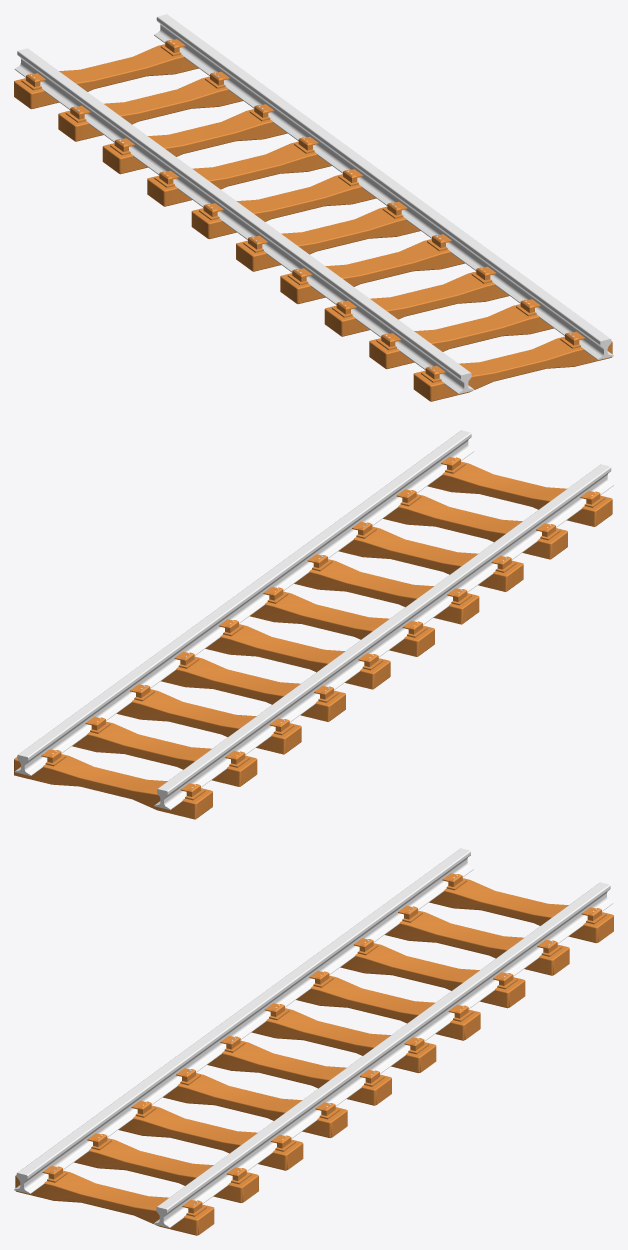
The model's file is 直行铁轨.fbx.
The picture shows the model from 3 angles, top to bottom: view 1: azimuth 30°, elevation 25°; view 2: azimuth 150°, elevation 25°; view 3: azimuth 330°, elevation 25°; orthographic projection.
Visible parts, largest first — view 1: 立方体, 立方体_1_0, 立方体_1_2, 立方体_1_5, 立方体_1_7, 立方体_1_8, 立方体_1_6, 立方体_1_3, 立方体_1_1, 立方体_1_4, 立方体_1_9; view 2: 立方体, 立方体_1_9, 立方体_1_2, 立方体_1_8, 立方体_1_3, 立方体_1_0, 立方体_1_7, 立方体_1_5, 立方体_1_4, 立方体_1_1, 立方体_1_6; view 3: 立方体, 立方体_1_0, 立方体_1_2, 立方体_1_5, 立方体_1_8, 立方体_1_6, 立方体_1_7, 立方体_1_3, 立方体_1_1, 立方体_1_9, 立方体_1_4.
Part boxes in pixels (<box>): 立方体: <box>14,14,613,394</box>; 立方体_1_0: <box>413,331,612,401</box>; 立方体_1_2: <box>324,266,509,336</box>; 立方体_1_5: <box>191,169,376,239</box>; 立方体_1_7: <box>102,104,287,174</box>; 立方体_1_8: <box>58,71,242,141</box>; 立方体_1_6: <box>147,136,331,206</box>; 立方体_1_3: <box>280,234,464,304</box>; 立方体_1_1: <box>369,299,553,369</box>; 立方体_1_4: <box>236,201,420,271</box>; 立方体_1_9: <box>14,39,198,109</box>; 立方体: <box>14,430,613,810</box>; 立方体_1_9: <box>14,749,212,819</box>; 立方体_1_2: <box>338,521,523,591</box>; 立方体_1_8: <box>72,716,257,786</box>; 立方体_1_3: <box>294,554,479,624</box>; 立方体_1_0: <box>427,456,612,526</box>; 立方体_1_7: <box>116,684,301,754</box>; 立方体_1_5: <box>205,619,390,689</box>; 立方体_1_4: <box>250,586,434,656</box>; 立方体_1_1: <box>383,489,567,559</box>; 立方体_1_6: <box>161,651,345,721</box>; 立方体: <box>14,848,613,1228</box>; 立方体_1_0: <box>15,1165,214,1235</box>; 立方体_1_2: <box>118,1100,303,1170</box>; 立方体_1_5: <box>251,1003,436,1073</box>; 立方体_1_8: <box>385,905,569,975</box>; 立方体_1_6: <box>296,970,480,1040</box>; 立方体_1_7: <box>340,938,525,1008</box>; 立方体_1_3: <box>163,1068,347,1137</box>; 立方体_1_1: <box>74,1133,258,1202</box>; 立方体_1_9: <box>429,873,613,943</box>; 立方体_1_4: <box>207,1035,391,1105</box>.
Size of the model in its own units: 475 by 82.74 by 1998.
